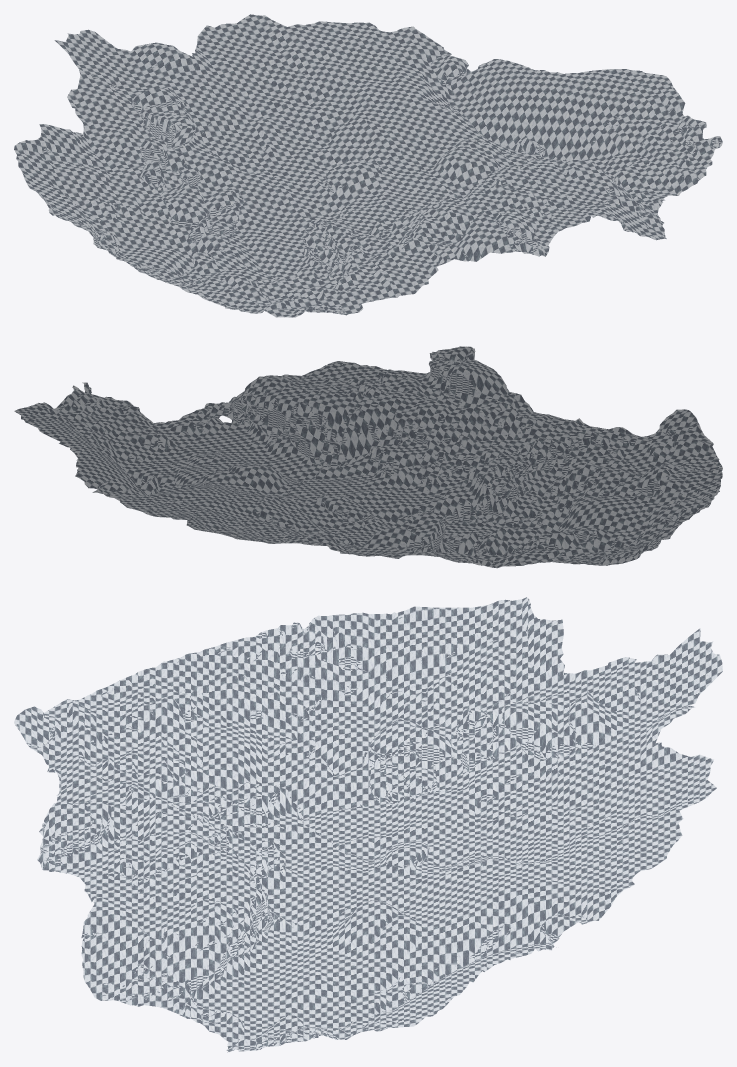
The model's file is marineRocks2.fbx.
3 renders of one model, top to bottom at view 1: azimuth 30°, elevation 25°; view 2: azimuth 150°, elevation 25°; view 3: azimuth 270°, elevation 25°, orthographic. The views are drawn at different scales.
Visible parts, largest first — view 1: node_id4; view 2: node_id4; view 3: node_id4.
Part boxes in pixels (x1,y1,x2,y2): node_id4: (14,14,722,317); node_id4: (14,346,722,568); node_id4: (14,597,722,1052).
Bounding box in the file's own units: 20.26 × 15.83 × 4.02.
